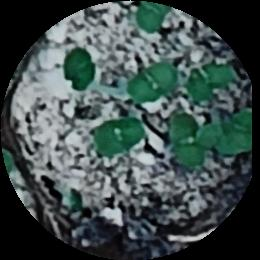Basil: (163, 118, 210, 167), (96, 118, 143, 159), (192, 60, 239, 100), (134, 65, 185, 99), (217, 114, 260, 154), (132, 0, 168, 33), (66, 52, 92, 88)
